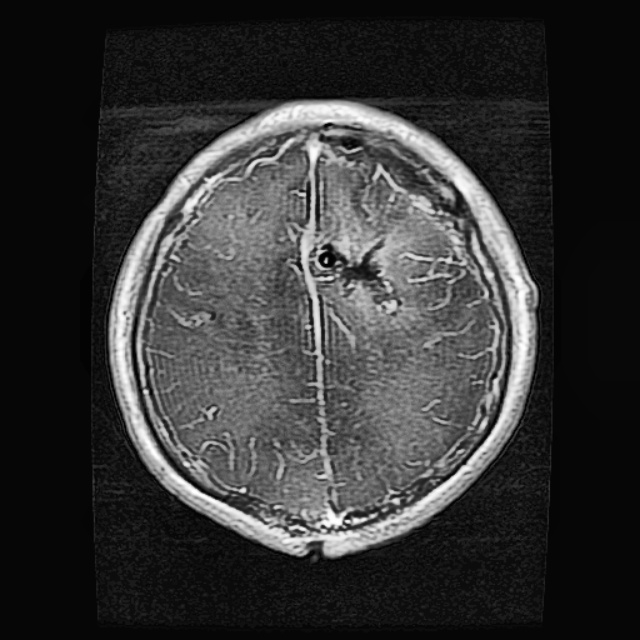Pituitary: (337, 238, 399, 312)
